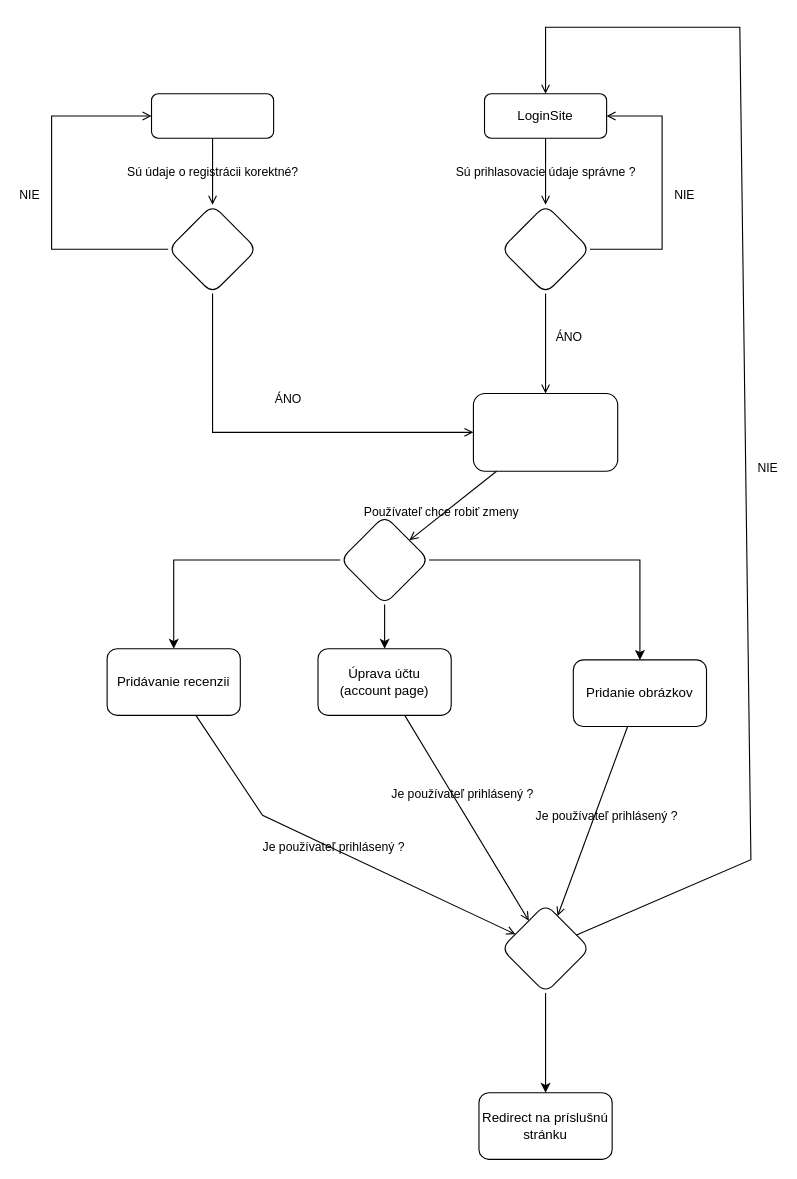
Some shapes in this 797 by 1179 pixel diagram are drawn without their labels. The shapes that lost their labels are listed below. From the top down, each one's centre as x and y in pixels, then its label:
At pixel 212 115: "RegisterSite".
At pixel 545 431: "Úvodná Stránka".
